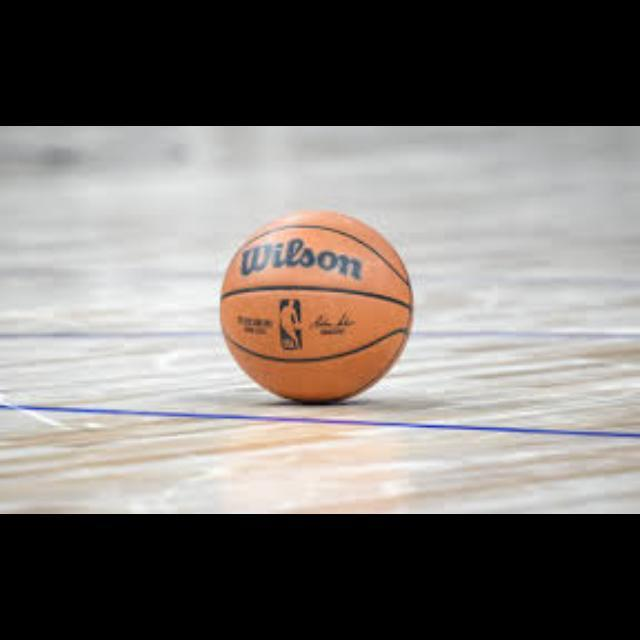basketball: (222, 212, 414, 404)
